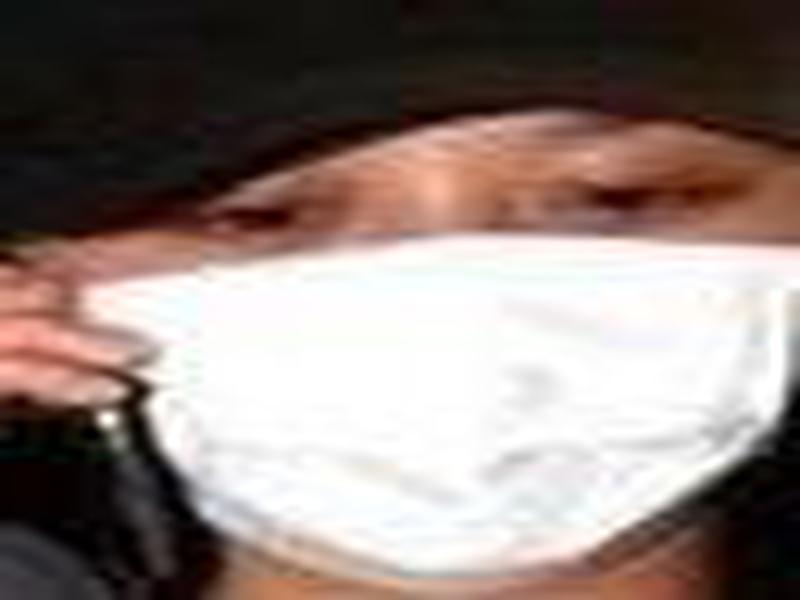with_mask: (4, 1, 800, 590)
